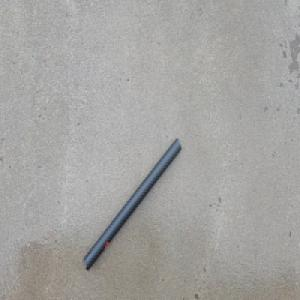LuggagePart: (83, 136, 182, 270)
